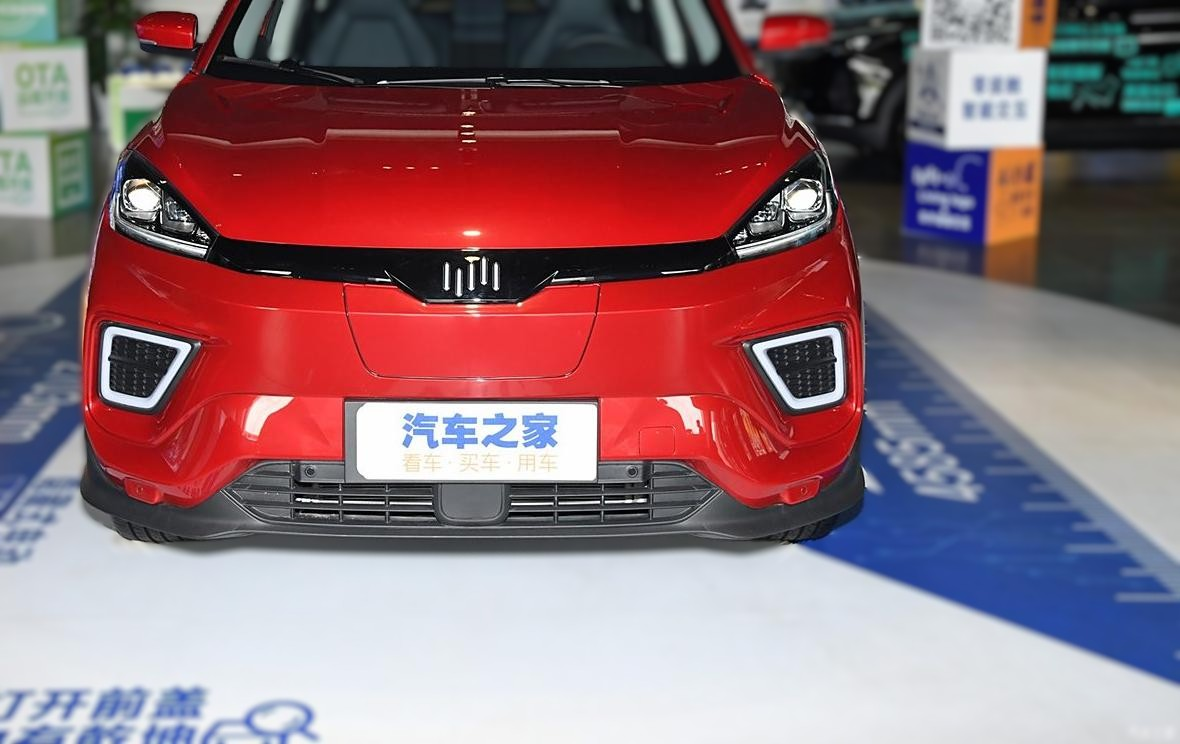WELTMEISTER: (445, 257, 499, 297)
